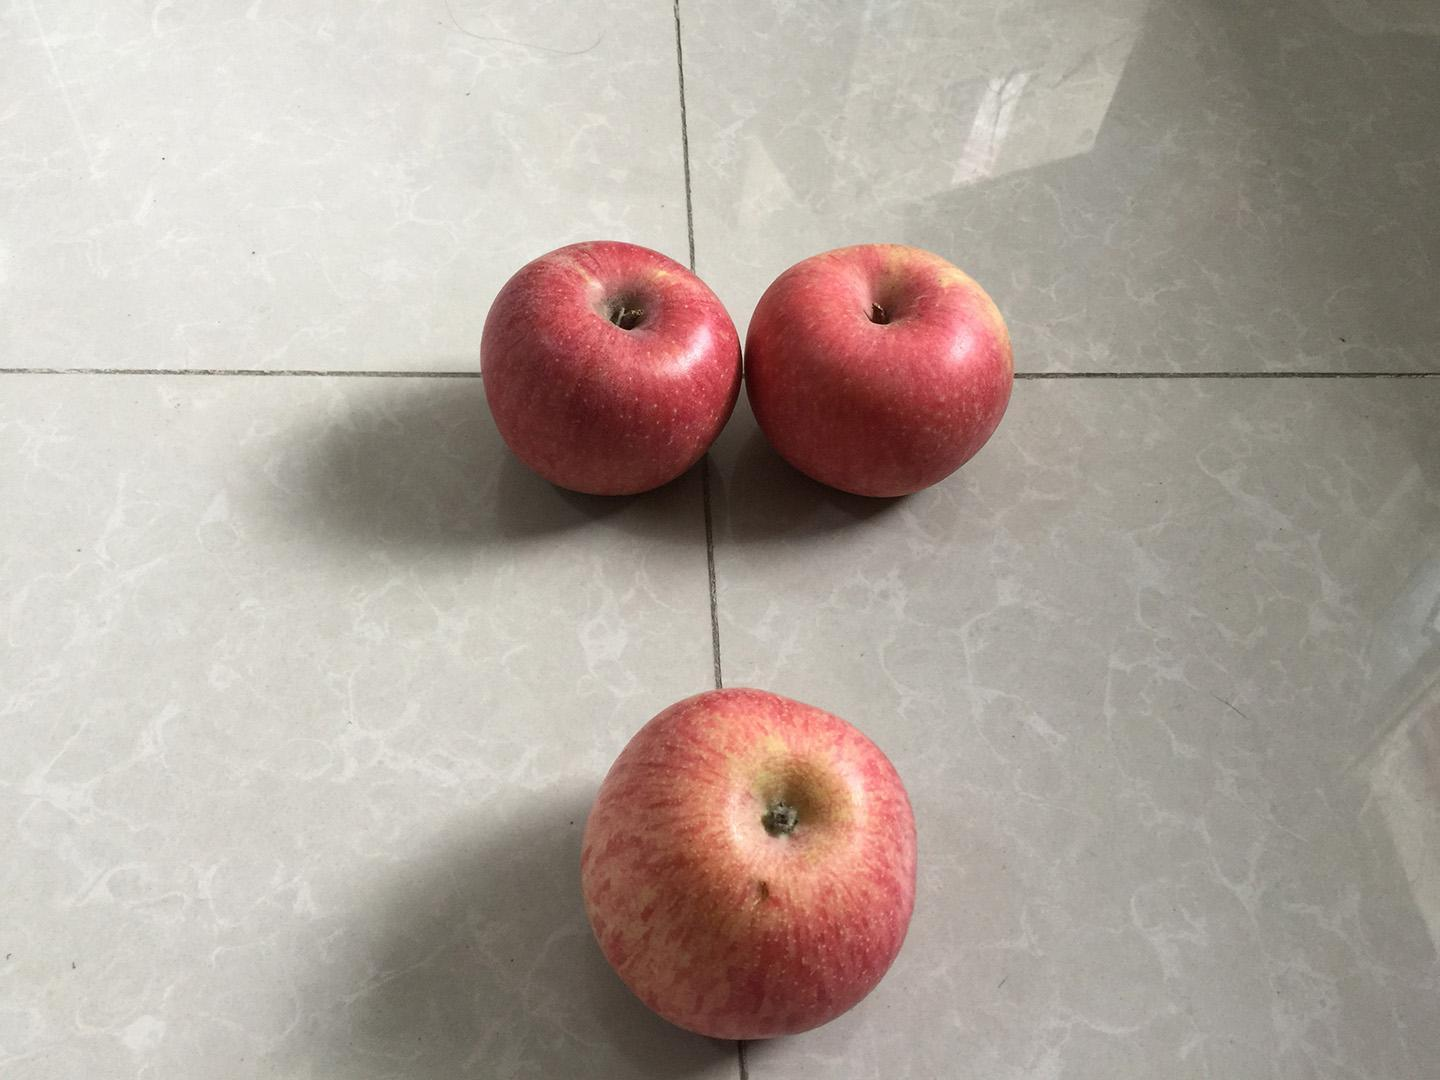apple: (571, 678, 926, 1049), (471, 228, 749, 508), (740, 238, 1026, 509)
